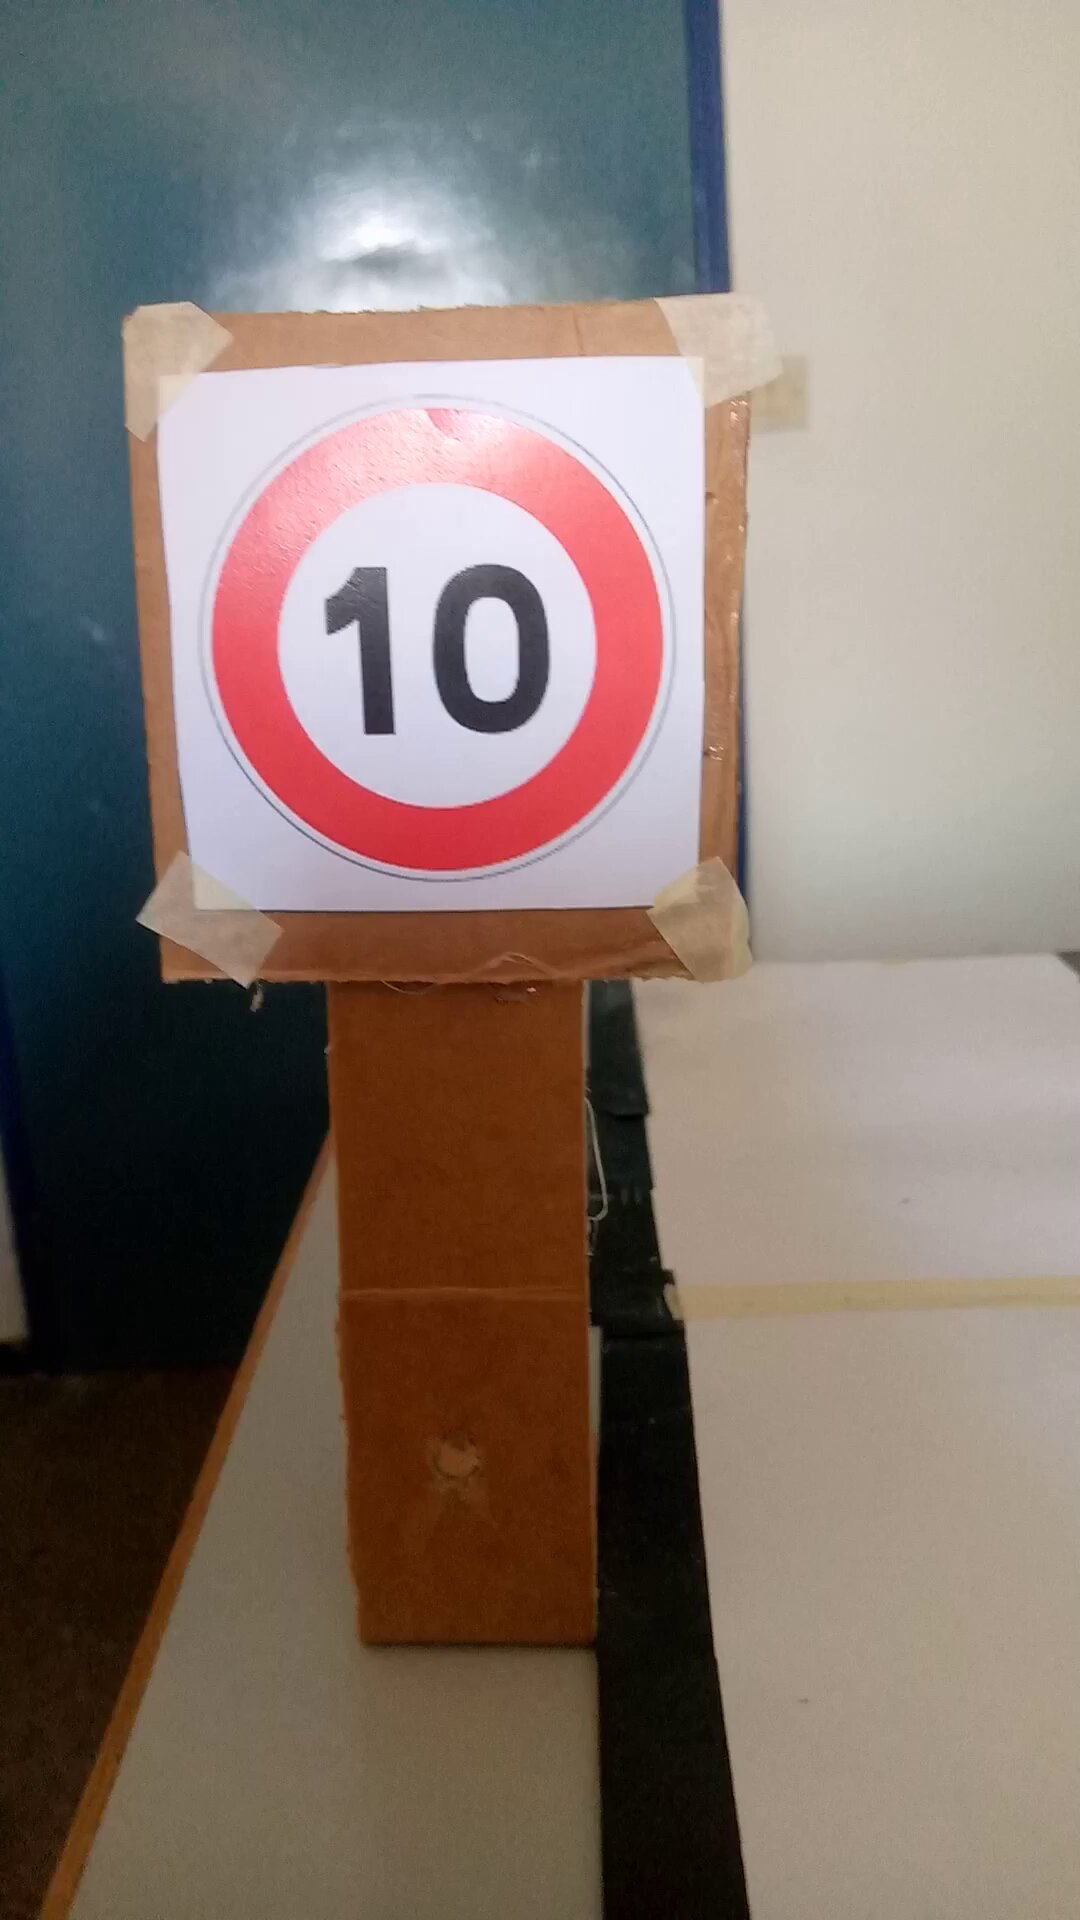panel011: (141, 363, 713, 906)
